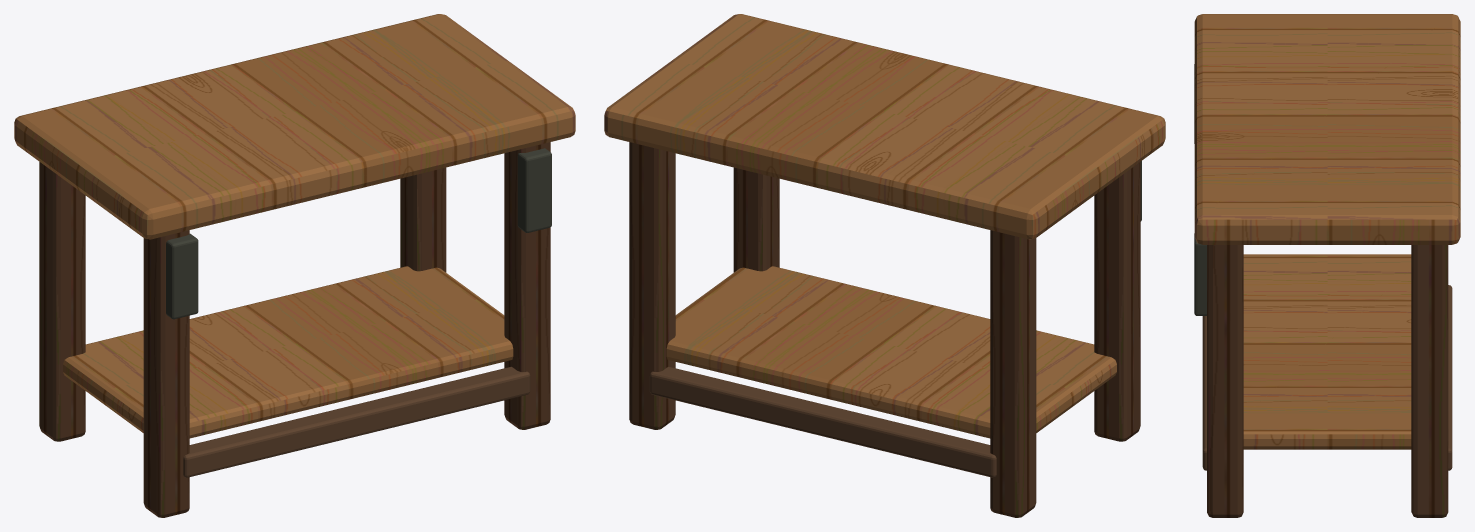
Rendered from SM_HH_Q3_HerbTable.fbx.
3 views of the same model, side by side, from view 1: azimuth 30°, elevation 25°; view 2: azimuth 150°, elevation 25°; view 3: azimuth 270°, elevation 25° (orthographic).
Visible parts, largest first — view 1: HH_Q3_HerbTable; view 2: HH_Q3_HerbTable; view 3: HH_Q3_HerbTable.
Boxes of the visible parts, bbox=[...] form: HH_Q3_HerbTable: bbox=[14, 14, 575, 517]; HH_Q3_HerbTable: bbox=[604, 14, 1165, 517]; HH_Q3_HerbTable: bbox=[1194, 14, 1460, 517].
Size of the model in its own units: 0.6505 by 1.2 by 0.84.
